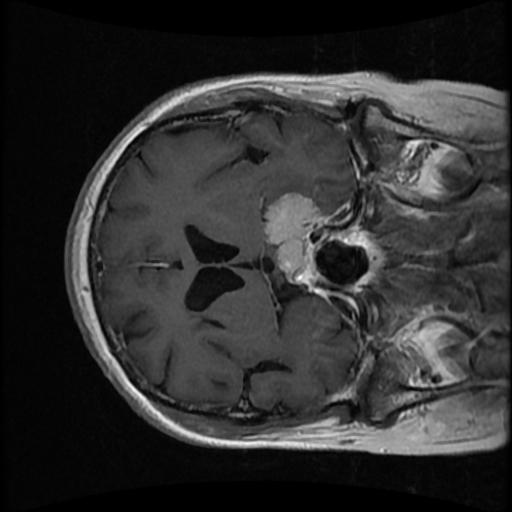meningioma: (259, 191, 324, 284)
